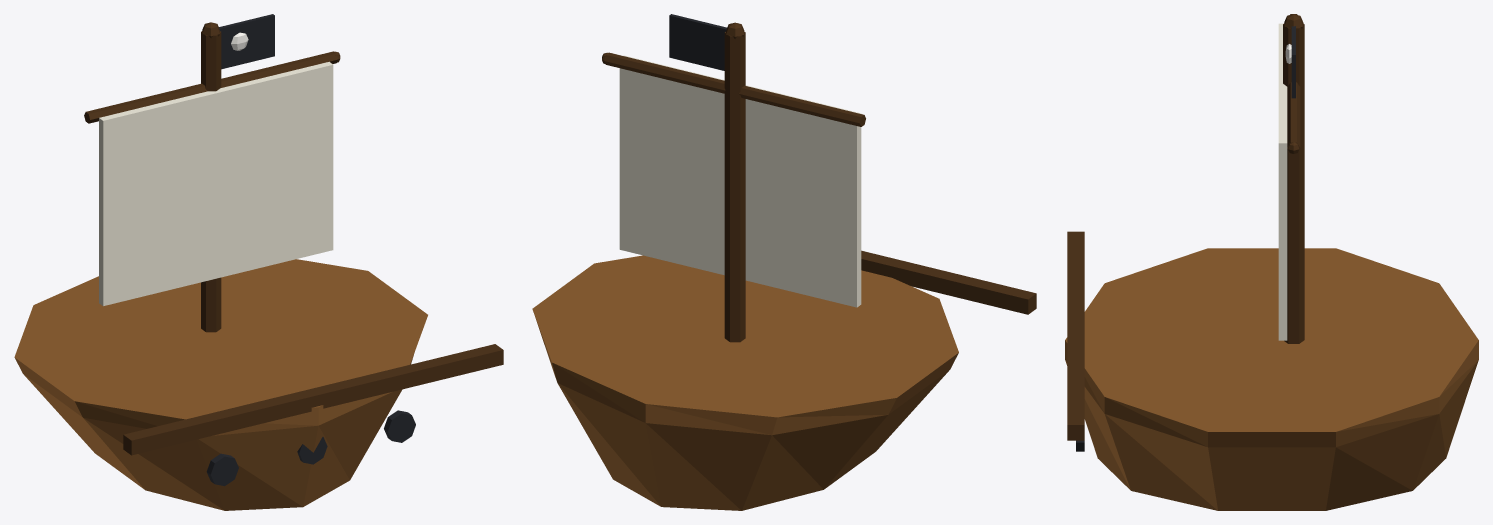
Rendered from float_ship.glb.
The picture shows the model from 3 angles, left to right: view 1: azimuth 30°, elevation 25°; view 2: azimuth 150°, elevation 25°; view 3: azimuth 270°, elevation 25°; orthographic projection. The views are drawn at different scales.
Visible parts, largest first — view 1: hull_ship_wood, sail_ship_sail, hull_ship_dark, mast_ship_dark, flag_car_black, hull_car_black; view 2: hull_ship_wood, sail_ship_sail, mast_ship_dark, hull_ship_dark, flag_car_black; view 3: hull_ship_wood, mast_ship_dark, hull_ship_dark, sail_ship_sail.
Part boxes in pixels (x1,y1,x2,y2): hull_ship_wood: [14, 259, 427, 510]; sail_ship_sail: [99, 61, 333, 306]; hull_ship_dark: [123, 344, 503, 455]; mast_ship_dark: [84, 22, 340, 332]; flag_car_black: [219, 14, 274, 69]; hull_car_black: [206, 410, 415, 486]; hull_ship_wood: [532, 255, 958, 510]; sail_ship_sail: [619, 55, 861, 307]; mast_ship_dark: [602, 22, 865, 342]; hull_ship_dark: [861, 250, 1036, 314]; flag_car_black: [669, 14, 726, 70]; hull_ship_wood: [1065, 248, 1478, 510]; mast_ship_dark: [1283, 14, 1304, 343]; hull_ship_dark: [1067, 231, 1084, 440]; sail_ship_sail: [1278, 23, 1287, 340].
Size of the model in its own units: 2.1 by 2.25 by 1.9.
